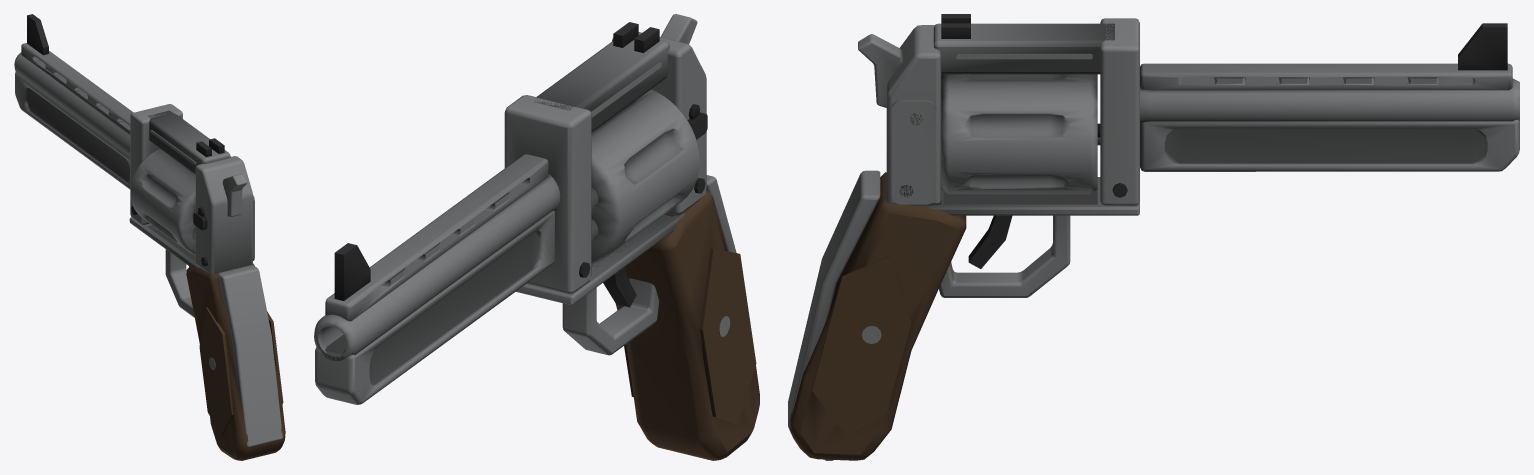
Rendered from hollis_44.glb.
3 views of the same model, side by side, from view 1: azimuth 30°, elevation 25°; view 2: azimuth 150°, elevation 25°; view 3: azimuth 270°, elevation 25° (orthographic). The views are drawn at different scales.
Visible parts, largest first — view 1: Receiver, Grip, Bolt; view 2: Receiver, Grip, Trigger, Bolt; view 3: Receiver, Grip, Bolt, Trigger.
Part boxes in pixels (x1,y1,x2,y2): Receiver: (14, 14, 254, 317); Grip: (186, 263, 285, 460); Bolt: (222, 174, 247, 216); Receiver: (314, 22, 707, 404); Grip: (616, 175, 759, 460); Trigger: (603, 267, 636, 307); Bolt: (660, 14, 697, 44); Receiver: (886, 14, 1519, 297); Grip: (788, 170, 966, 460); Bolt: (858, 34, 902, 107); Trigger: (968, 215, 1012, 268).
Size of the model in its own units: 0.051 by 0.1918 by 0.2947.
